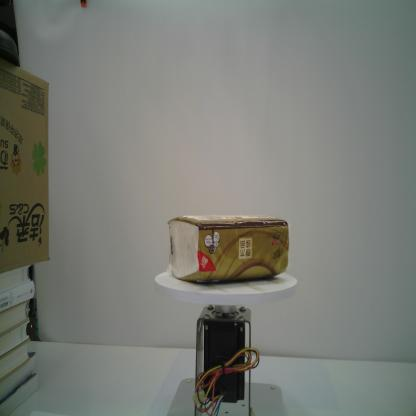Tissue: (166, 212, 290, 284)
